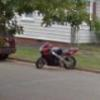motorcycles: (36, 43, 79, 69)
